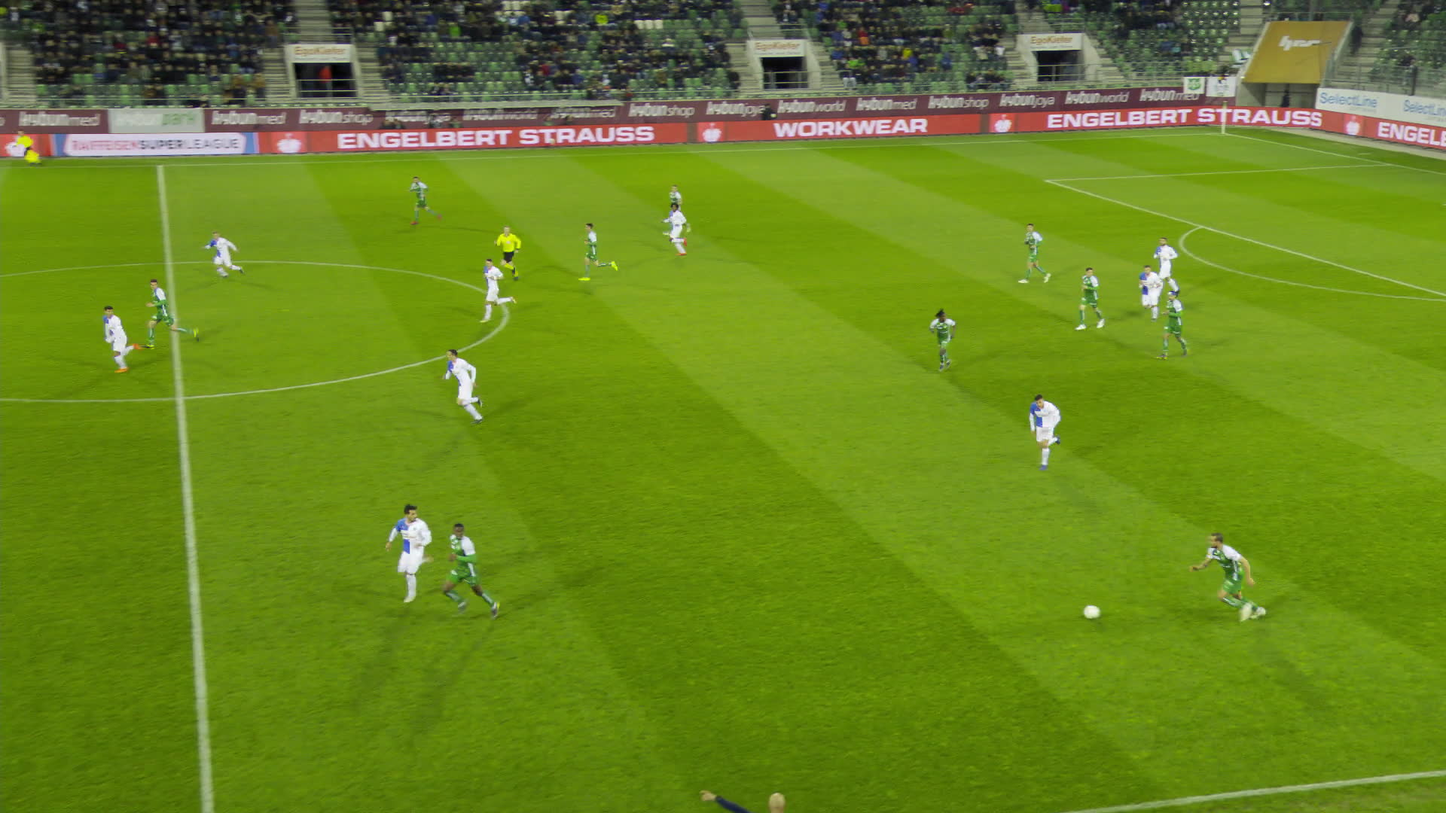ball: (1094, 607, 1109, 620)
player: (389, 500, 453, 604), (444, 525, 502, 629), (1207, 534, 1267, 629), (97, 305, 158, 373), (446, 346, 496, 428), (1029, 393, 1069, 464), (145, 282, 185, 353), (481, 258, 515, 324), (660, 202, 697, 257), (580, 222, 613, 282), (1157, 293, 1186, 360), (926, 312, 956, 374), (204, 231, 240, 282), (1136, 261, 1161, 323), (1078, 269, 1103, 331), (1021, 225, 1045, 287), (407, 178, 434, 227), (1154, 240, 1177, 295), (664, 186, 681, 236)
referee: (494, 227, 523, 284), (11, 130, 41, 166)
